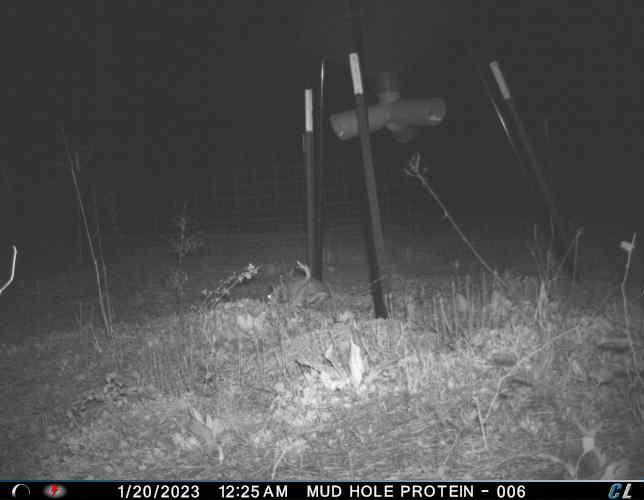Rabbit: (261, 271, 331, 309)
